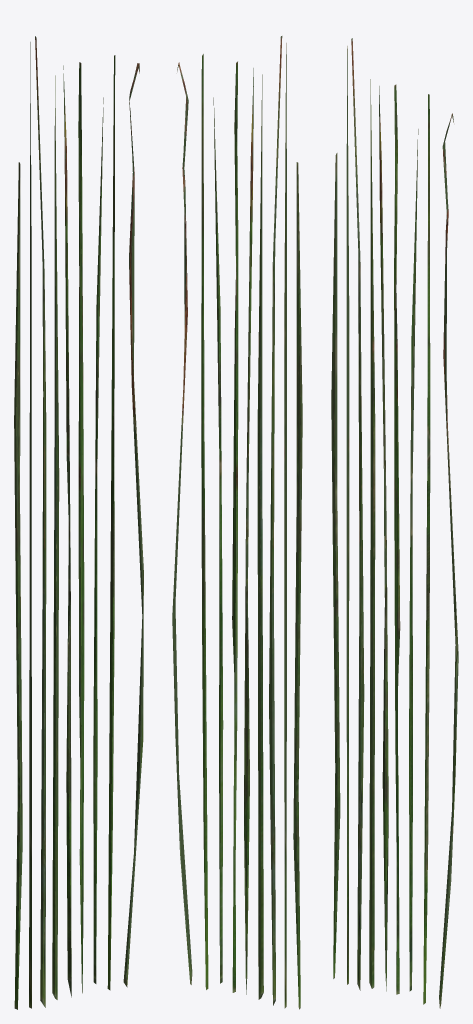
Rendered from jazzGrass.glb.
3 views of the same model, side by side, from view 1: azimuth 30°, elevation 25°; view 2: azimuth 150°, elevation 25°; view 3: azimuth 330°, elevation 25° (orthographic). The views are drawn at different scales.
Parts seen in each view (by area): view 1: grass var.007; view 2: grass var.007; view 3: grass var.007.
Part boxes in pixels (box(x1,y1,x2,y2)): grass var.007: box(14, 36, 143, 1009); grass var.007: box(172, 36, 302, 1009); grass var.007: box(331, 38, 458, 1008).
Bounding box in the file's own units: 0.1445 × 1.07 × 0.00554.
Materials: 2 (2 with a texture image).
